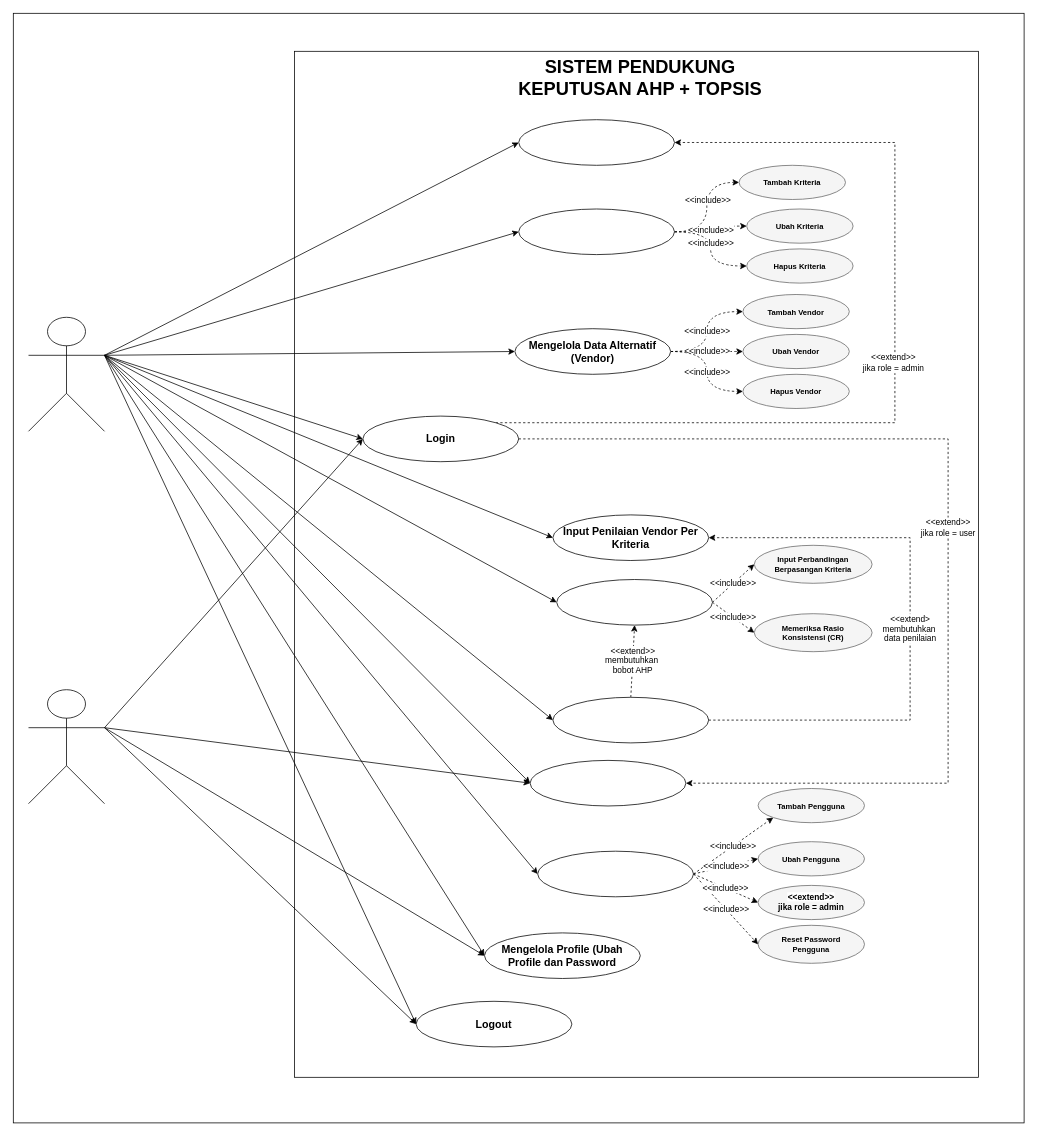
This 1037x1136 diagram has some shape labels left out. The shapes that lost their labels are listed below. From the top down, each one's centre as x and y in pixels, then its label:
At [596,142]: "Melihat Dashboard Analitik".
At [596,231]: "Mengelola Data Kriteria".
At [66,374]: "Admin".
At [634,602]: "Menghitung Bobot AHP".
At [630,720]: "Menghitung Peringkat TOPSIS".
At [66,746]: "User".
At [607,783]: "Melihat Hasil dan Rekomendasi Vendor".
At [615,873]: "Mengelola Data Pengguna".
